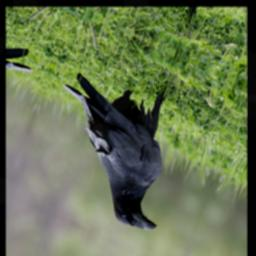Crow: (29, 45, 202, 238)
